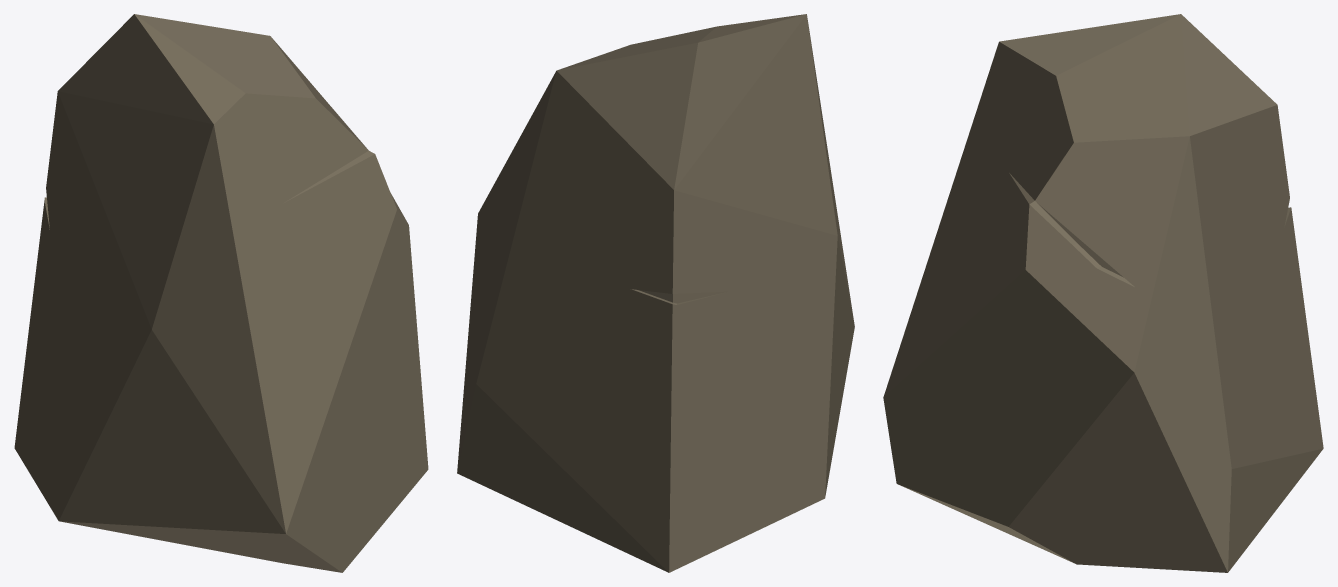
The model's file is Big_Rock_2.fbx.
The picture shows the model from 3 angles, left to right: view 1: azimuth 30°, elevation 25°; view 2: azimuth 150°, elevation 25°; view 3: azimuth 270°, elevation 25°; orthographic projection. The views are drawn at different scales.
Visible parts, largest first — view 1: rock_7; view 2: rock_7; view 3: rock_7.
Boxes of the visible parts, box(x1,y1,x2,y2) form: rock_7: box(14, 14, 428, 572); rock_7: box(457, 14, 854, 572); rock_7: box(883, 14, 1323, 572).
Bounding box in the file's own units: 109 × 143 × 124.
